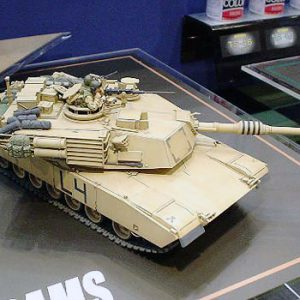Battle Tank: (1, 74, 300, 258)
